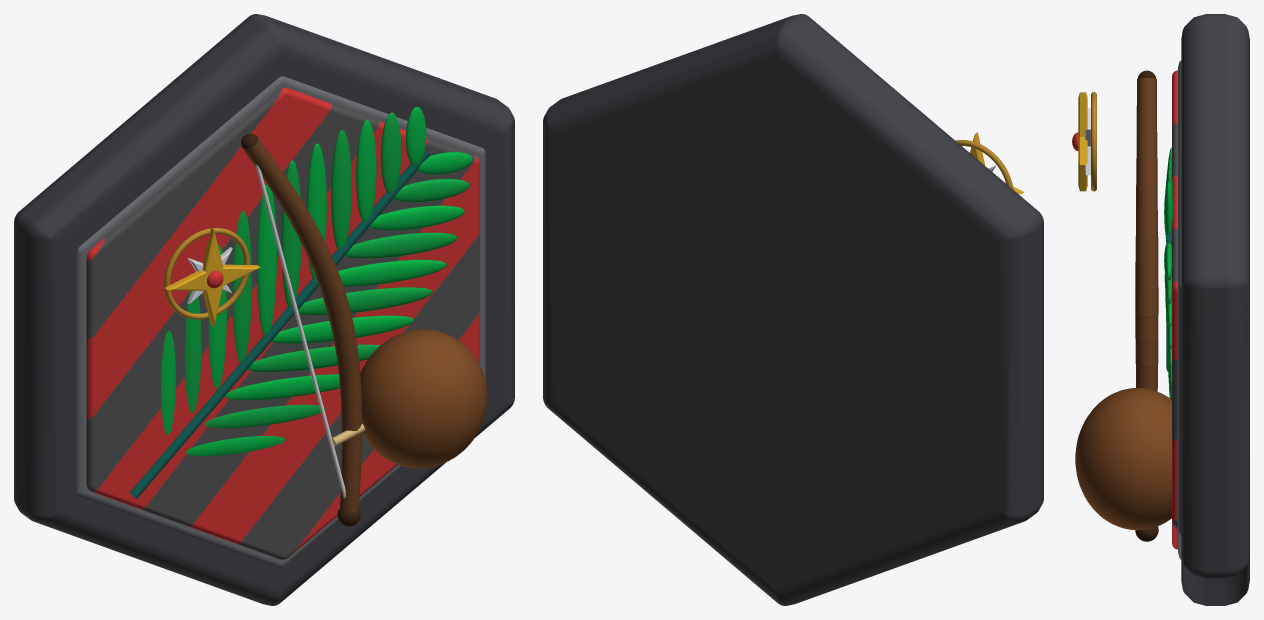
The model's file is cordao-05-vagante.glb.
3 renders of one model, left to right at view 1: azimuth 30°, elevation 25°; view 2: azimuth 150°, elevation 25°; view 3: azimuth 270°, elevation 25°, orthographic.
Parts seen in each view (by area): view 1: Brasao 05 Vagante; view 2: Brasao 05 Vagante; view 3: Brasao 05 Vagante.
Boxes of the visible parts, x1,y1,x2,y2 form: Brasao 05 Vagante: [14, 14, 514, 605]; Brasao 05 Vagante: [543, 14, 1043, 605]; Brasao 05 Vagante: [1072, 14, 1249, 605].
Size of the model in its own units: 0.866 by 0.9924 by 0.2714.
Materials: 15 (1 with a texture image).
